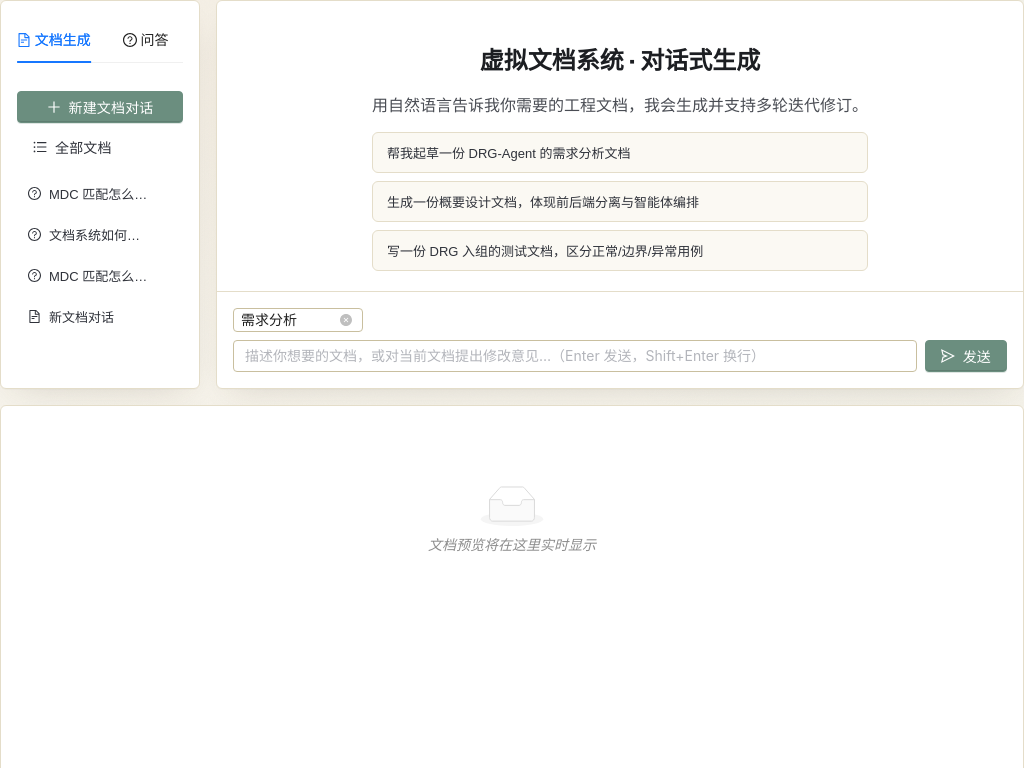
DocumentSystem (对话工作台) › does not submit a duplicate fallback request after streaming has started
The width and height of the screenshot is (1024, 768).
Click the tab "问答" at point(146, 40), box [123, 29, 169, 51]
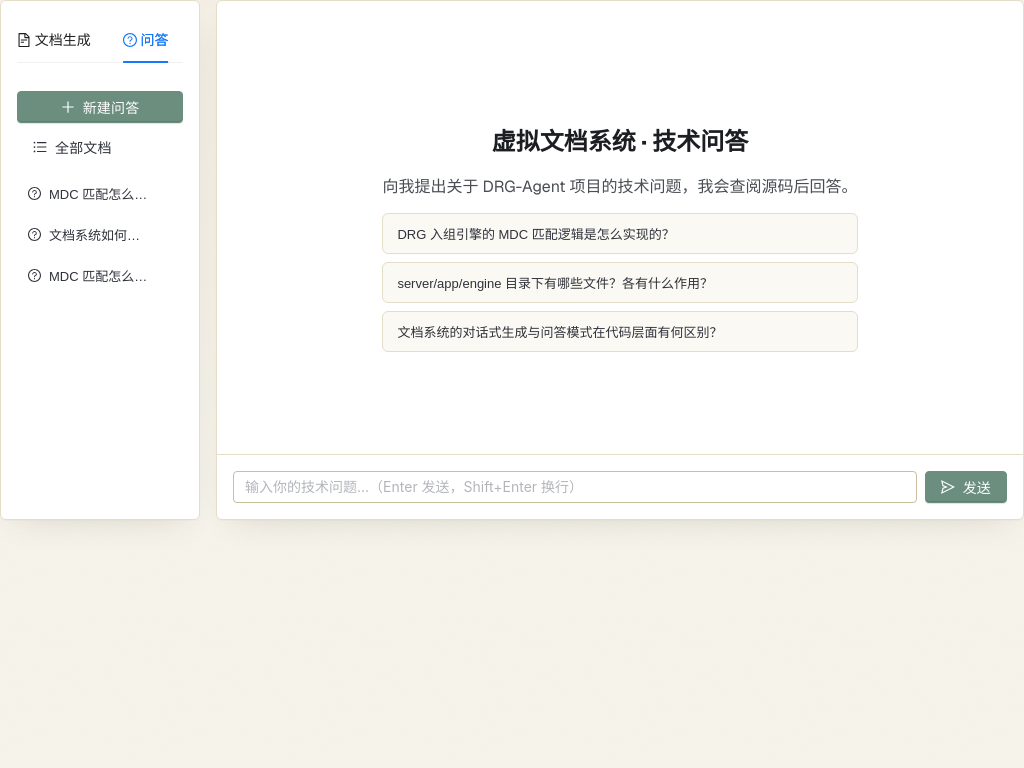
Type "测试中断处理" into the text box with placeholder "输入你的技术问题…（Enter 发送，Shift+Enter 换行）" at point(575, 487), box [233, 471, 917, 503]
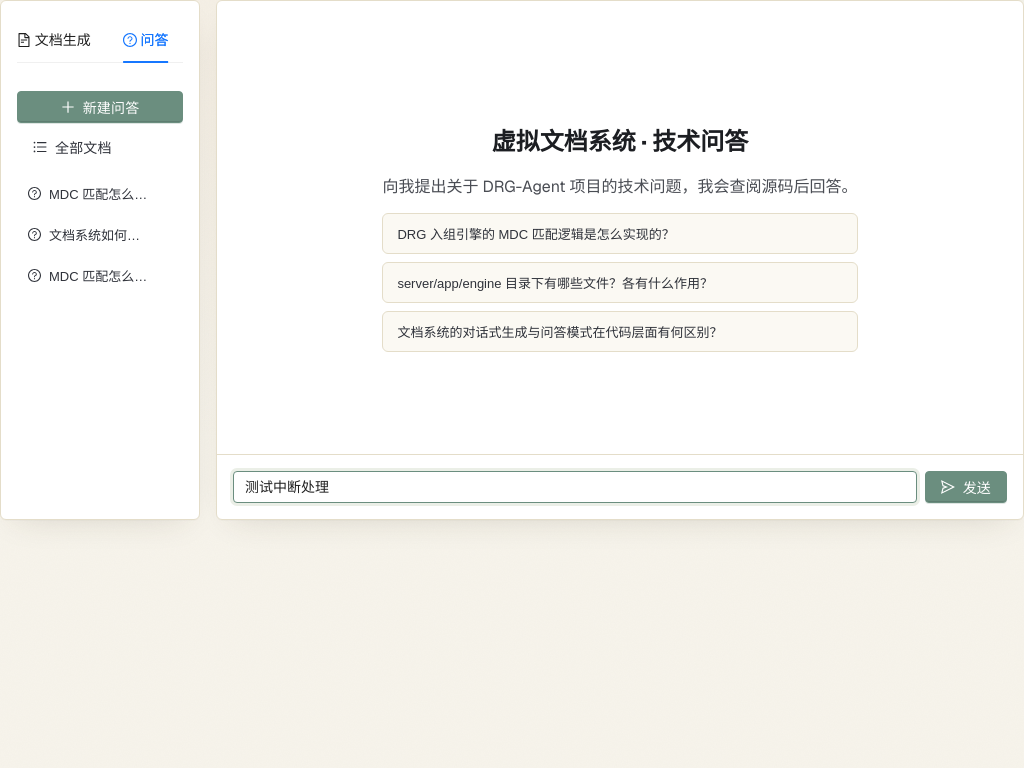
Click the button "发送" at point(966, 487), box [925, 471, 1007, 503]
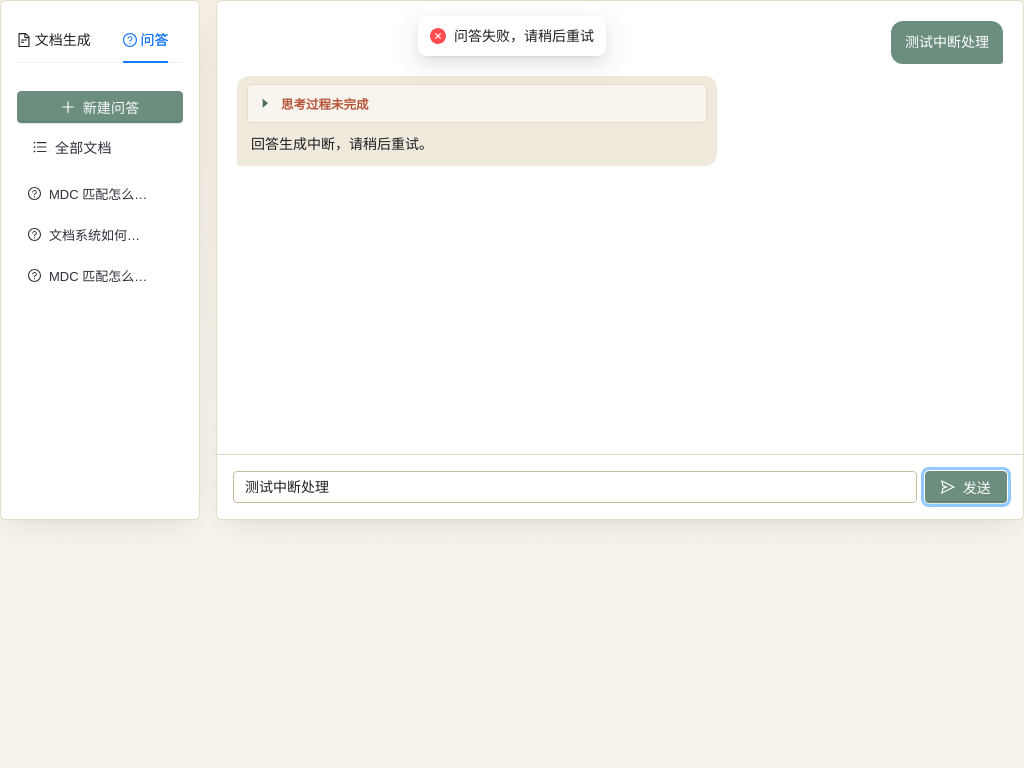
Result: the text "回答生成中断，请稍后重试。" is shown at [251, 135, 433, 153]
